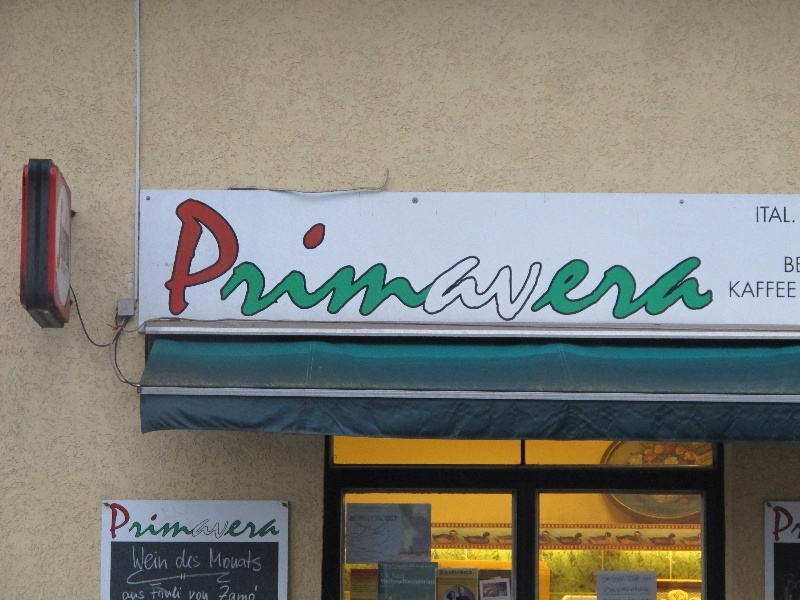text: (177, 197, 192, 324), (193, 197, 208, 324), (209, 197, 224, 324), (225, 197, 240, 324), (241, 197, 256, 324), (257, 197, 272, 324), (273, 197, 288, 324), (289, 197, 304, 324), (305, 197, 320, 324), (321, 197, 336, 324), (337, 197, 352, 324), (353, 197, 368, 324), (369, 197, 384, 324), (385, 197, 400, 324), (401, 197, 416, 324), (417, 197, 432, 324), (433, 197, 448, 324), (449, 197, 464, 324), (465, 197, 480, 324), (481, 197, 496, 324), (497, 197, 512, 324), (513, 197, 528, 324), (529, 197, 544, 324), (545, 197, 560, 324), (561, 197, 576, 324), (577, 197, 592, 324), (593, 197, 608, 324), (609, 197, 624, 324), (625, 197, 640, 324), (641, 197, 656, 324), (657, 197, 672, 324), (673, 197, 688, 324), (689, 197, 704, 324), (705, 197, 714, 324), (113, 503, 128, 541), (129, 503, 144, 541), (145, 503, 160, 541), (161, 503, 176, 541), (177, 503, 192, 541), (193, 503, 208, 541), (209, 503, 224, 541), (225, 503, 240, 541), (241, 503, 256, 541), (257, 503, 272, 541), (785, 504, 799, 544), (771, 504, 784, 544), (209, 548, 224, 575), (225, 548, 240, 575), (241, 548, 256, 575), (145, 546, 160, 571), (177, 549, 192, 571), (273, 503, 281, 541), (132, 546, 144, 571), (785, 573, 800, 592), (737, 281, 752, 299), (753, 281, 768, 299), (769, 281, 784, 299), (769, 206, 784, 224), (785, 257, 800, 274), (174, 197, 176, 324), (161, 546, 170, 571), (785, 281, 797, 299), (756, 206, 768, 224), (225, 586, 240, 600), (241, 586, 256, 600), (785, 206, 796, 224), (161, 587, 176, 600), (129, 589, 145, 600), (193, 549, 201, 571), (257, 548, 263, 575), (193, 591, 209, 600), (729, 281, 736, 299), (151, 587, 160, 600), (109, 503, 112, 541), (609, 587, 624, 594), (609, 577, 625, 583), (353, 516, 368, 522), (369, 516, 384, 522), (385, 579, 400, 585), (401, 579, 416, 585), (417, 579, 432, 585), (626, 576, 640, 582), (177, 587, 183, 600), (645, 577, 656, 584), (449, 570, 464, 575), (385, 516, 397, 522), (123, 589, 128, 600), (392, 573, 400, 579), (439, 570, 448, 575), (221, 586, 224, 600), (633, 587, 640, 593), (641, 587, 648, 593), (385, 573, 391, 579), (465, 570, 472, 575), (625, 587, 630, 594), (603, 577, 608, 583), (257, 586, 259, 600), (604, 587, 608, 594), (189, 591, 192, 600), (401, 573, 405, 579), (381, 573, 384, 579), (381, 579, 384, 585), (433, 579, 435, 585), (351, 516, 352, 522)
